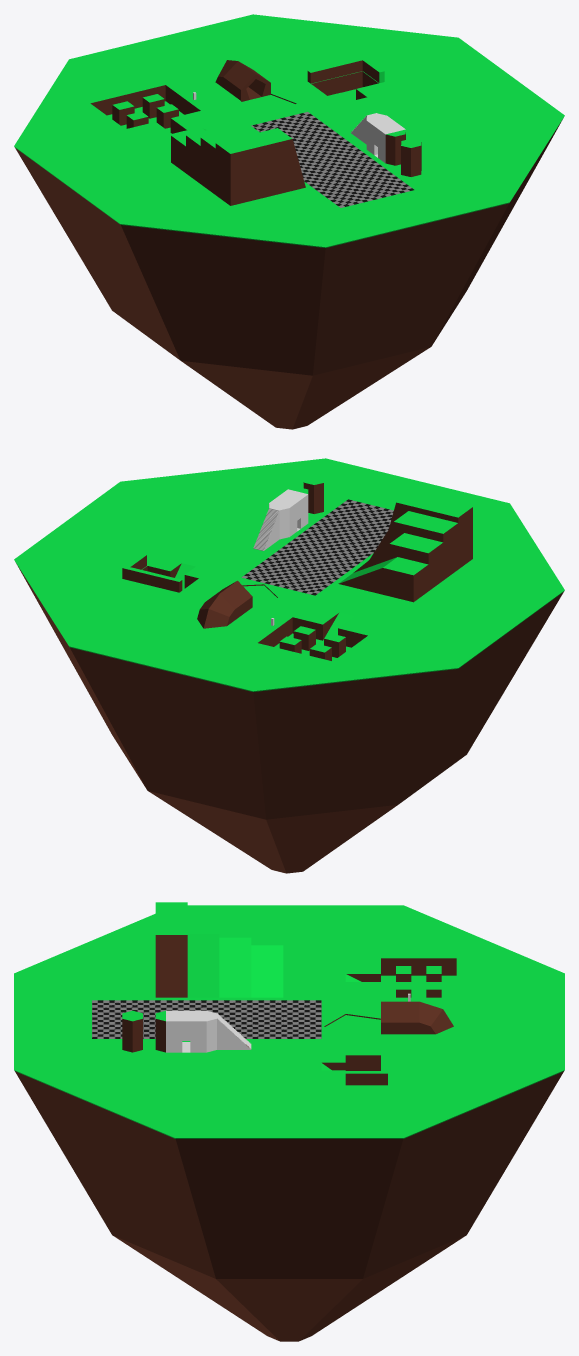
Rendered from Test Grounds v1.2.gltf.
The picture shows the model from 3 angles, top to bottom: view 1: azimuth 30°, elevation 25°; view 2: azimuth 150°, elevation 25°; view 3: azimuth 270°, elevation 25°; orthographic projection. The views are drawn at different scales.
Parts seen in each view (by area): view 1: Level Mesh; view 2: Level Mesh; view 3: Level Mesh.
Part boxes in pixels (x1,y1,x2,y2): Level Mesh: (14, 14, 564, 429); Level Mesh: (14, 458, 564, 873); Level Mesh: (14, 902, 564, 1341).
Size of the model in its own units: 432 by 317 by 432.
5 materials, 1 textured.
